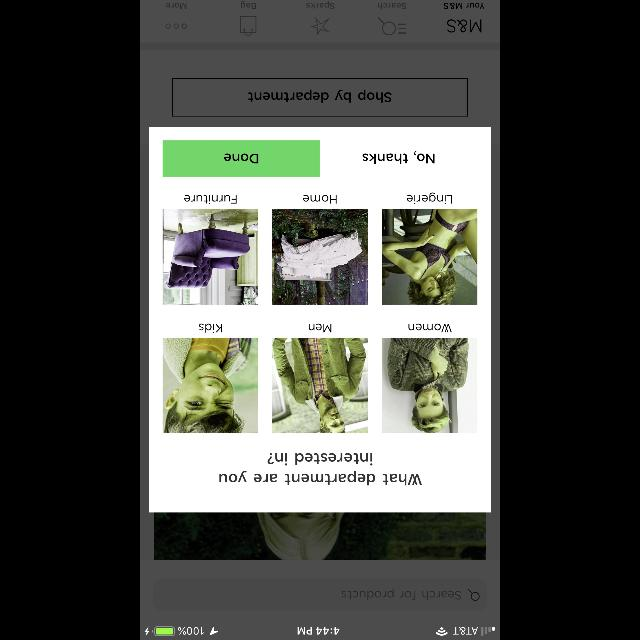image: (272, 338, 368, 432), (162, 338, 258, 432), (272, 210, 368, 304), (162, 210, 258, 304), (382, 338, 476, 432), (382, 210, 476, 304)
panel: (149, 128, 491, 512)
text: (218, 452, 422, 486), (362, 150, 434, 163), (406, 192, 452, 204), (185, 194, 238, 203), (408, 323, 452, 332), (303, 194, 337, 203), (198, 323, 222, 333), (308, 323, 332, 332)
textbutton: (162, 140, 320, 176)
uppertaskbar: (140, 626, 500, 640)
